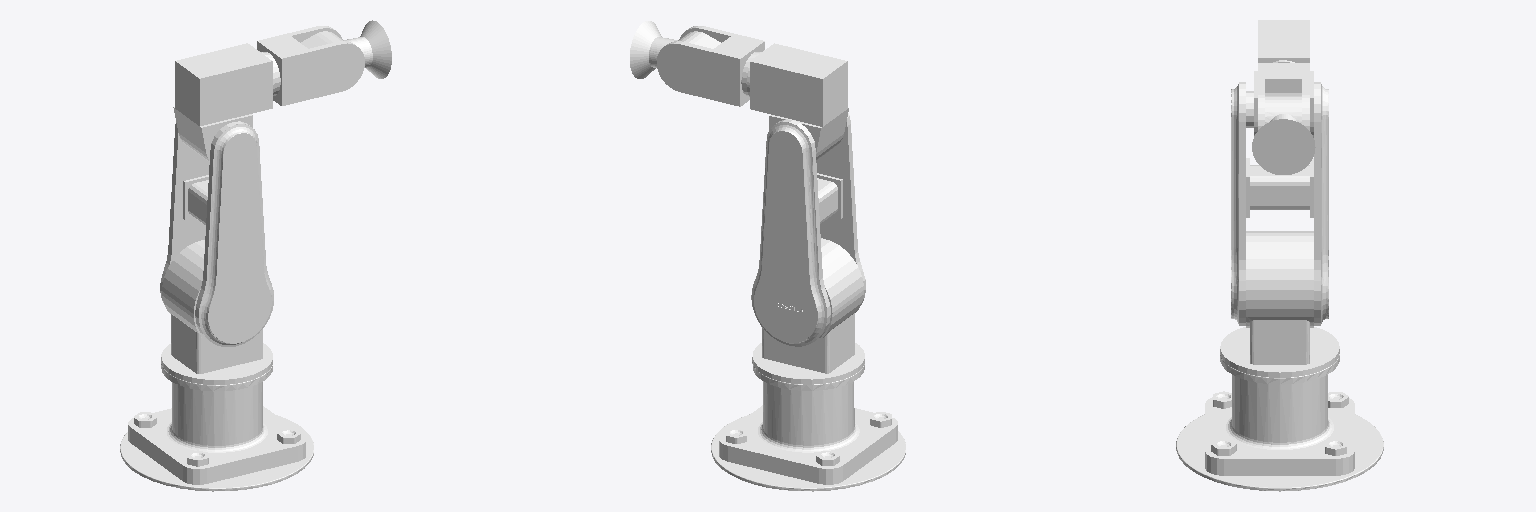
robot.urdf — armurdf2:
<?xml version="1.0" encoding="utf-8" ?>
<!-- This URDF was automatically created by SolidWorks to URDF Exporter! Originally created by [author] ([email redacted]) 
     Commit Version: 1.6.0-4-g7f85cfe  Build Version: 1.6.7995.38578
     For more information, please see http://wiki.ros.org/sw_urdf_exporter -->
<robot name="armurdf2">
    <link name="world" />
    <joint name="base_joint" type="fixed">
        <parent link="world" />
        <child link="base_link" />
        <origin rpy="0 0 0" xyz="0.0 0.0 0.17" />
    </joint>
    <link name="base_link">
        <inertial>
            <origin xyz="5.5511E-17 5.5511E-17 0.07921" rpy="0 0 0" />
            <mass value="17.682" />
            <inertia ixx="0.3246" ixy="-2.9144E-17" ixz="-3.8784E-17" iyy="0.3246" iyz="1.5477E-17" izz="0.41606" />
        </inertial>
        <visual>
            <origin xyz="0 0 0" rpy="0 0 0" />
            <geometry>
                <mesh filename="package://armurdf2/meshes/base_link.STL" />
            </geometry>
            <material name="">
                <color rgba="1 1 1 0.35" />
            </material>
        </visual>
        <collision>
            <origin xyz="0 0 0" rpy="0 0 0" />
            <geometry>
                <mesh filename="package://armurdf2/meshes/base_link.STL" />
            </geometry>
        </collision>
    </link>
    <link name="link1">
        <inertial>
            <origin xyz="1.5626E-10 1.1102E-16 0.37308" rpy="0 0 0" />
            <mass value="15.531" />
            <inertia ixx="0.30108" ixy="-1.3459E-09" ixz="1.3573E-09" iyy="0.32963" iyz="-6.2809E-17" izz="0.11715" />
        </inertial>
        <visual>
            <origin xyz="0 0 0" rpy="0 0 0" />
            <geometry>
                <mesh filename="package://armurdf2/meshes/link1.STL" />
            </geometry>
            <material name="">
                <color rgba="1 1 1 0.35" />
            </material>
        </visual>
        <collision>
            <origin xyz="0 0 0" rpy="0 0 0" />
            <geometry>
                <mesh filename="package://armurdf2/meshes/link1.STL" />
            </geometry>
        </collision>
    </link>
    <joint name="joint1" type="revolute">
        <origin xyz="0 0 0" rpy="0 0 0" />
        <parent link="base_link" />
        <child link="link1" />
        <axis xyz="0 0 1" />
        <limit lower="-3.142" upper="3.142" effort="160" velocity="3" />
        <dynamics damping="0" friction="0" />
    </joint>
    <link name="link2">
        <inertial>
            <origin xyz="1.9654E-06 -0.1916 -2.3595E-05" rpy="0 0 0" />
            <mass value="16.54" />
            <inertia ixx="0.7651" ixy="-6.0324E-06" ixz="-4.0516E-06" iyy="0.1679" iyz="7.2448E-05" izz="0.66407" />
        </inertial>
        <visual>
            <origin xyz="0 0 0" rpy="0 0 0" />
            <geometry>
                <mesh filename="package://armurdf2/meshes/link2.STL" />
            </geometry>
            <material name="">
                <color rgba="1 1 1 0.35" />
            </material>
        </visual>
        <collision>
            <origin xyz="0 0 0" rpy="0 0 0" />
            <geometry>
                <mesh filename="package://armurdf2/meshes/link2.STL" />
            </geometry>
        </collision>
    </link>
    <joint name="joint2" type="revolute">
        <origin xyz="0 0 0.496" rpy="-1.5708 0 0" />
        <parent link="link1" />
        <child link="link2" />
        <axis xyz="0.0031451 0 1" />
        <limit lower="-1.57" upper="1.309" effort="120" velocity="3" />
        <dynamics damping="0" friction="0" />
    </joint>
    <link name="link3">
        <inertial>
            <origin xyz="0.097689 0.0027227 0.01" rpy="0 0 0" />
            <mass value="6.4849" />
            <inertia ixx="0.034525" ixy="-0.0016663" ixz="-1.717E-17" iyy="0.053729" iyz="-6.5698E-18" izz="0.063531" />
        </inertial>
        <visual>
            <origin xyz="0 0 0" rpy="0 0 0" />
            <geometry>
                <mesh filename="package://armurdf2/meshes/link3.STL" />
            </geometry>
            <material name="">
                <color rgba="1 1 1 0.35" />
            </material>
        </visual>
        <collision>
            <origin xyz="0 0 0" rpy="0 0 0" />
            <geometry>
                <mesh filename="package://armurdf2/meshes/link3.STL" />
            </geometry>
        </collision>
    </link>
    <joint name="joint3" type="revolute">
        <origin xyz="0 -0.5 0" rpy="0 0 -1.5708" />
        <parent link="link2" />
        <child link="link3" />
        <axis xyz="0 0 1" />
        <limit lower="-1.57" upper="1.0472" effort="40" velocity="2.2" />
        <dynamics damping="0" friction="0" />
    </joint>
    <link name="link4">
        <inertial>
            <origin xyz="-0.00069175 3.3555E-09 0.14368" rpy="0 0 0" />
            <mass value="7.0188" />
            <inertia ixx="0.067793" ixy="-1.9672E-09" ixz="0.00041641" iyy="0.066756" iyz="-4.05E-10" izz="0.020743" />
        </inertial>
        <visual>
            <origin xyz="0 0 0" rpy="0 0 0" />
            <geometry>
                <mesh filename="package://armurdf2/meshes/link4.STL" />
            </geometry>
            <material name="">
                <color rgba="1 1 1 0.35" />
            </material>
        </visual>
        <collision>
            <origin xyz="0 0 0" rpy="0 0 0" />
            <geometry>
                <mesh filename="package://armurdf2/meshes/link4.STL" />
            </geometry>
        </collision>
    </link>
    <joint name="joint4" type="revolute">
        <origin xyz="0.145 0.15744 0.01" rpy="-1.5708 0 0" />
        <parent link="link3" />
        <child link="link4" />
        <axis xyz="0 0 1" />
        <limit lower="-3.14" upper="3.14" effort="27" velocity="2.3" />
        <dynamics damping="0" friction="0" />
    </joint>
    <transmission name="link_1_trans">
        <type>transmission_interface/SimpleTransmission</type>
        <joint name="joint1">
            <hardwareInterface>hardware_interface/PositionJointInterface</hardwareInterface>
        </joint>
        <actuator name="link_1_motor">
            <hardwareInterface>hardware_interface/PositionJointInterface</hardwareInterface>
            <mechanicalReduction>5</mechanicalReduction>
        </actuator>
    </transmission>
    <transmission name="link_2_trans">
        <type>transmission_interface/SimpleTransmission</type>
        <joint name="joint2">
            <hardwareInterface>hardware_interface/PositionJointInterface</hardwareInterface>
        </joint>
        <actuator name="link_2_motor">
            <hardwareInterface>hardware_interface/PositionJointInterface</hardwareInterface>
            <mechanicalReduction>10</mechanicalReduction>
        </actuator>
    </transmission>
    <transmission name="link_3_trans">
        <type>transmission_interface/SimpleTransmission</type>
        <joint name="joint3">
            <hardwareInterface>hardware_interface/PositionJointInterface</hardwareInterface>
        </joint>
        <actuator name="link_3_motor">
            <hardwareInterface>hardware_interface/PositionJointInterface</hardwareInterface>
            <mechanicalReduction>1</mechanicalReduction>
        </actuator>
    </transmission>
    <transmission name="link_4_trans">
        <type>transmission_interface/SimpleTransmission</type>
        <joint name="joint4">
            <hardwareInterface>hardware_interface/PositionJointInterface</hardwareInterface>
        </joint>
        <actuator name="link_4_motor">
            <hardwareInterface>hardware_interface/PositionJointInterface</hardwareInterface>
            <mechanicalReduction>1</mechanicalReduction>
        </actuator>
    </transmission>
    <gazebo>
        <plugin name="control" filename="libgazebo_ros_control.so">
            <robotNamespace>/</robotNamespace>
        </plugin>
        <plugin name="gazebo_ros_control" filename="libgazebo_ros_control.so">
            <robotNamespace>/</robotNamespace>
        </plugin>
    </gazebo>
    <gazebo reference="link1">
        <selfCollide>true</selfCollide>
    </gazebo>
    <gazebo reference="link2">
        <selfCollide>true</selfCollide>
    </gazebo>
    <gazebo reference="link3">
        <selfCollide>true</selfCollide>
    </gazebo>
    <gazebo reference="link4">
        <selfCollide>true</selfCollide>
    </gazebo>
</robot>

--- Render facts (derived) ---
3 views of the same robot in one strip: view 1: azimuth 30°, elevation 25°; view 2: azimuth 150°, elevation 25°; view 3: azimuth 270°, elevation 25° (orthographic).
Model armurdf2 with 6 links and 5 joints (4 revolute, 1 fixed), rooted at world, posed all joints at 0.
Links seen in each view (by area): view 1: link2, base_link, link3, link4, link1; view 2: link2, base_link, link3, link4, link1; view 3: base_link, link1, link2, link4, link3.
Link boxes in pixels (<box>): link2: <box>160,121,273,347</box>; base_link: <box>120,362,313,491</box>; link3: <box>173,43,272,161</box>; link4: <box>257,20,391,105</box>; link1: <box>161,240,272,384</box>; link2: <box>751,113,865,346</box>; base_link: <box>711,362,905,491</box>; link3: <box>750,43,848,159</box>; link4: <box>630,21,764,106</box>; link1: <box>752,238,864,384</box>; base_link: <box>1176,354,1383,491</box>; link1: <box>1220,231,1339,377</box>; link2: <box>1231,82,1328,325</box>; link4: <box>1252,60,1315,174</box>; link3: <box>1254,20,1313,137</box>.
Bounding box of the posed robot: 0.8139 × 0.555 × 1.22 m (x, y, z).
Meshes: 5 distinct files referenced, 5 mesh visuals loaded (5 binary STL).